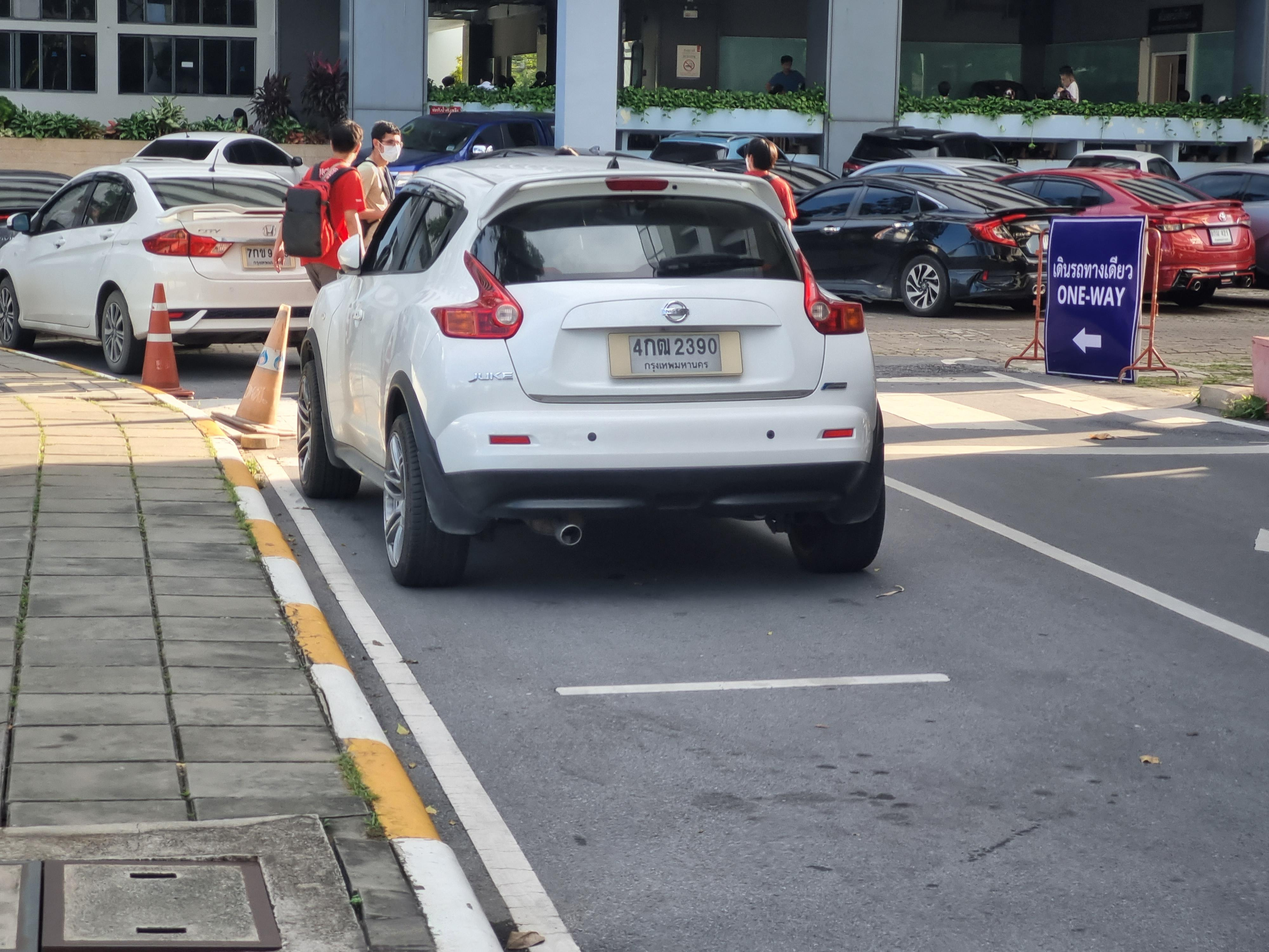license-plate: (604, 328, 743, 382), (239, 238, 281, 265)
